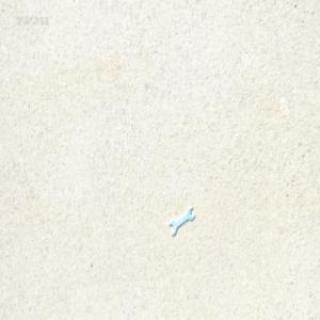Wrenchtrack_idkeyframe: (169, 204, 195, 234)
